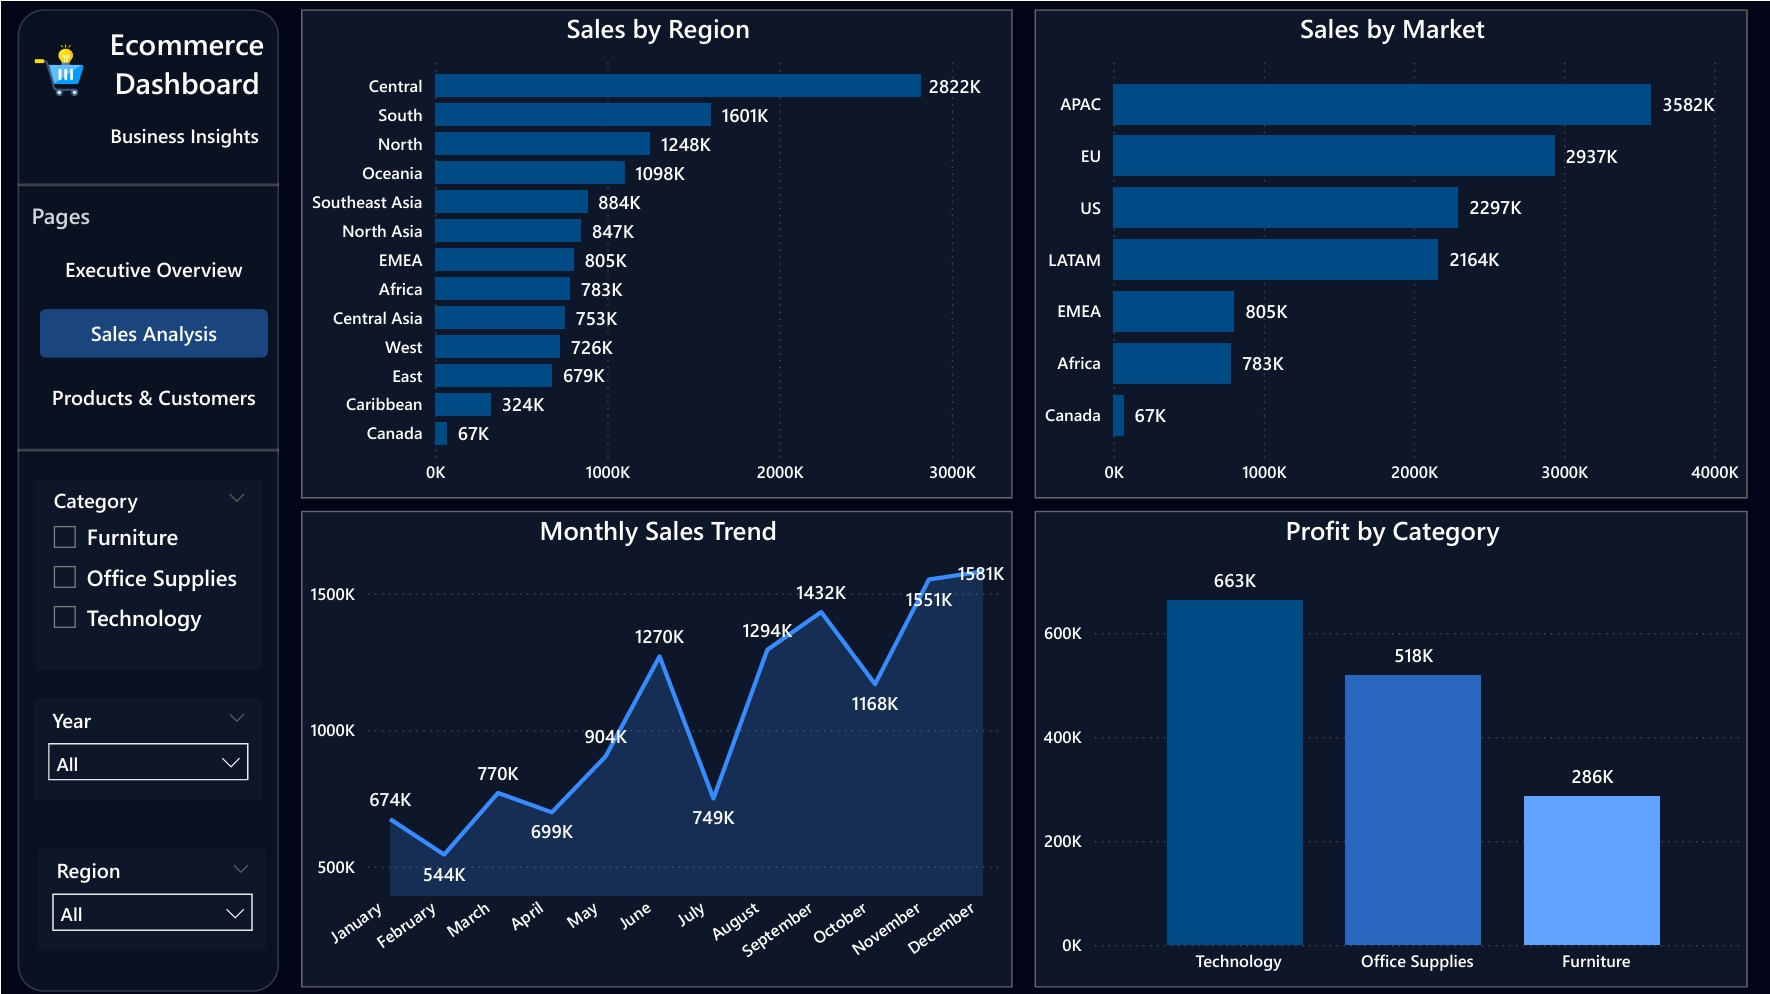

This screenshot's page, from the dashboard's own definition file:
{"tool":"powerbi","page":{"name":"Sales Analysis","canvas":[1280,720],"ordinal":1},"visuals":[{"type":"shape","box":[12.1,6,189.4,710.6],"z":0},{"type":"textbox","box":[65.1,10.9,138.7,72.4],"z":1000},{"type":"image","box":[21.7,30.2,40,40],"z":2000},{"type":"textbox","box":[73.6,83.2,123.1,29],"z":3000},{"type":"shape","box":[12.1,126.7,189.4,12.1],"z":4000},{"type":"textbox","box":[21.7,138.7,177.3,38.6],"z":5000},{"type":"actionButton","box":[27.7,177.3,165.3,35],"z":6000},{"type":"actionButton","box":[27.7,269,165.3,35],"z":7000},{"type":"shape","box":[12.1,318.5,189.4,12.1],"z":8000},{"type":"slicer","fields":{"Values":["Sales Data.year"]},"box":[24.1,505.5,165.3,72.4],"z":9000},{"type":"slicer","fields":{"Values":["Sales Data.region"]},"box":[26.5,614.1,165.3,72.4],"z":10000},{"type":"slicer","fields":{"Values":["Sales Data.category"]},"box":[25.3,346.2,164.1,137.5],"z":11000},{"type":"actionButton","box":[27.7,223.2,165.3,35],"z":12000},{"type":"clusteredBarChart","title":"Sales by Region","fields":{"Category":["Dataset1.region"],"Y":["Sum(Dataset1.sales)"]},"box":[217.2,6,515.2,353.5],"z":13000},{"type":"clusteredBarChart","title":"Sales by Market","fields":{"Category":["Sales Data.market"],"Y":["Sum(Sales Data.sales)"]},"box":[748,6,516.4,353.5],"z":14000},{"type":"lineChart","title":"Monthly Sales Trend","fields":{"Y":["Sum(Sales Data.sales)"],"Category":["Sales Data.order_date.Variation.Date Hierarchy.Month"]},"box":[217.2,369.2,515.2,345],"z":15000},{"type":"clusteredColumnChart","title":"Profit by Category","fields":{"Category":["Sales Data.category"],"Y":["Sum(Sales Data.profit)"]},"box":[748,369.2,516.4,345],"z":16000}]}

Visuals, with their boxes on the page's 1280x720 design canvas (x1, y1, x2, y2). These are canvas units, not pixel positions in the 1770x994 screenshot, which may show the page scaled, cropped or inside an application window:
shape: (x1=12, y1=6, x2=202, y2=717)
textbox: (x1=65, y1=11, x2=204, y2=83)
image: (x1=22, y1=30, x2=62, y2=70)
textbox: (x1=74, y1=83, x2=197, y2=112)
shape: (x1=12, y1=127, x2=202, y2=139)
textbox: (x1=22, y1=139, x2=199, y2=177)
actionButton: (x1=28, y1=177, x2=193, y2=212)
actionButton: (x1=28, y1=269, x2=193, y2=304)
shape: (x1=12, y1=318, x2=202, y2=331)
slicer - Sales Data.year: (x1=24, y1=506, x2=189, y2=578)
slicer - Sales Data.region: (x1=26, y1=614, x2=192, y2=686)
slicer - Sales Data.category: (x1=25, y1=346, x2=189, y2=484)
actionButton: (x1=28, y1=223, x2=193, y2=258)
"Sales by Region" clusteredBarChart: (x1=217, y1=6, x2=732, y2=360)
"Sales by Market" clusteredBarChart: (x1=748, y1=6, x2=1264, y2=360)
"Monthly Sales Trend" lineChart: (x1=217, y1=369, x2=732, y2=714)
"Profit by Category" clusteredColumnChart: (x1=748, y1=369, x2=1264, y2=714)
